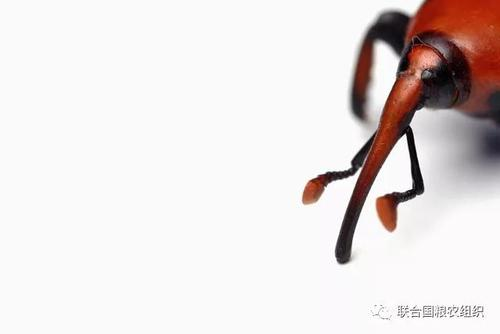Curculionidae: (303, 1, 500, 265)
